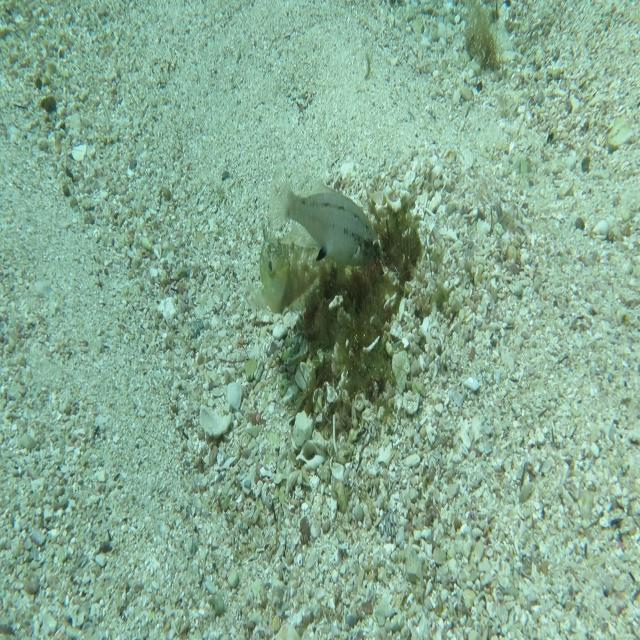BEND: (249, 218, 348, 320)
core_nest: (346, 227, 400, 283)
female: (267, 166, 385, 268)
nest: (270, 174, 430, 441)
